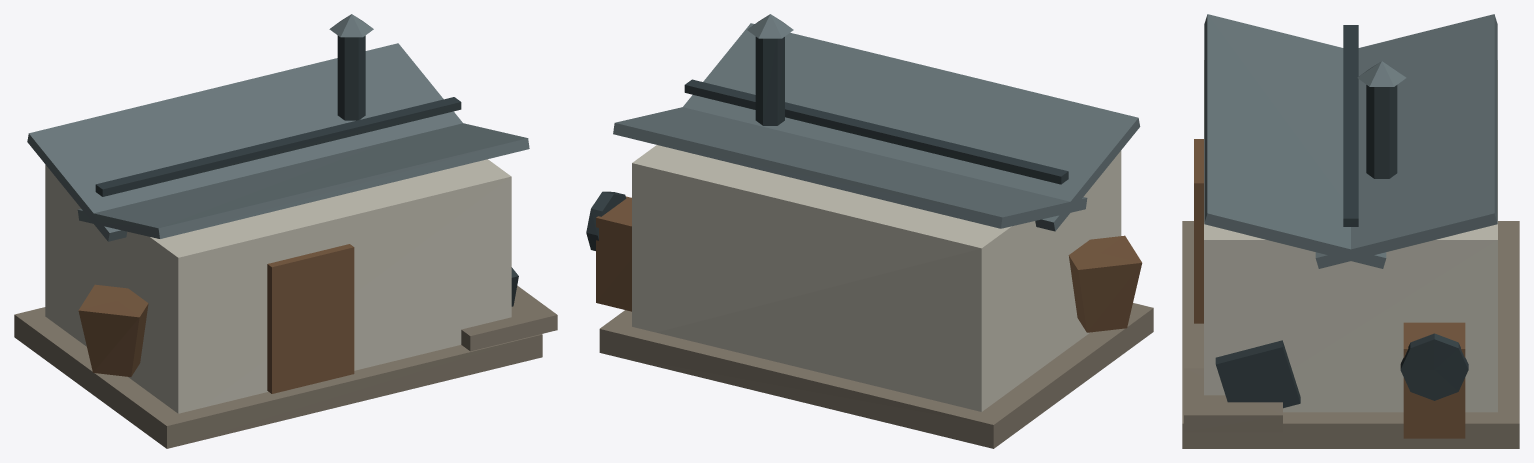
The model's file is Flour-Mill.glb.
3 renders of one model, left to right at view 1: azimuth 30°, elevation 25°; view 2: azimuth 150°, elevation 25°; view 3: azimuth 270°, elevation 25°, orthographic. The views are drawn at different scales.
Parts seen in each view (by area): view 1: wind-pump-static-flour-mill-pale-mill-house, wind-pump-static-flour-mill-galvanized-roof, wind-pump-static-flour-mill-stone-curb, wind-pump-static-flour-mill-weathered-timber, wind-pump-static-flour-mill-dark-processing-frame; view 2: wind-pump-static-flour-mill-pale-mill-house, wind-pump-static-flour-mill-galvanized-roof, wind-pump-static-flour-mill-stone-curb, wind-pump-static-flour-mill-weathered-timber, wind-pump-static-flour-mill-dark-processing-frame; view 3: wind-pump-static-flour-mill-galvanized-roof, wind-pump-static-flour-mill-pale-mill-house, wind-pump-static-flour-mill-stone-curb, wind-pump-static-flour-mill-dark-processing-frame, wind-pump-static-flour-mill-weathered-timber.
Boxes of the visible parts, x1,y1,x2,y2 form: wind-pump-static-flour-mill-pale-mill-house: [45, 159, 511, 413]; wind-pump-static-flour-mill-galvanized-roof: [27, 14, 529, 241]; wind-pump-static-flour-mill-stone-curb: [14, 285, 557, 448]; wind-pump-static-flour-mill-weathered-timber: [78, 244, 354, 393]; wind-pump-static-flour-mill-dark-processing-frame: [95, 35, 518, 306]; wind-pump-static-flour-mill-pale-mill-house: [632, 145, 1121, 411]; wind-pump-static-flour-mill-galvanized-roof: [613, 14, 1140, 231]; wind-pump-static-flour-mill-stone-curb: [599, 303, 1153, 448]; wind-pump-static-flour-mill-weathered-timber: [596, 196, 1142, 332]; wind-pump-static-flour-mill-dark-processing-frame: [586, 37, 1068, 250]; wind-pump-static-flour-mill-galvanized-roof: [1204, 14, 1497, 268]; wind-pump-static-flour-mill-pale-mill-house: [1204, 60, 1497, 412]; wind-pump-static-flour-mill-stone-curb: [1182, 221, 1519, 448]; wind-pump-static-flour-mill-dark-processing-frame: [1215, 25, 1468, 408]; wind-pump-static-flour-mill-weathered-timber: [1194, 139, 1465, 438].
Bounding box in the file's own units: 3.72 × 2.38 × 2.18.
